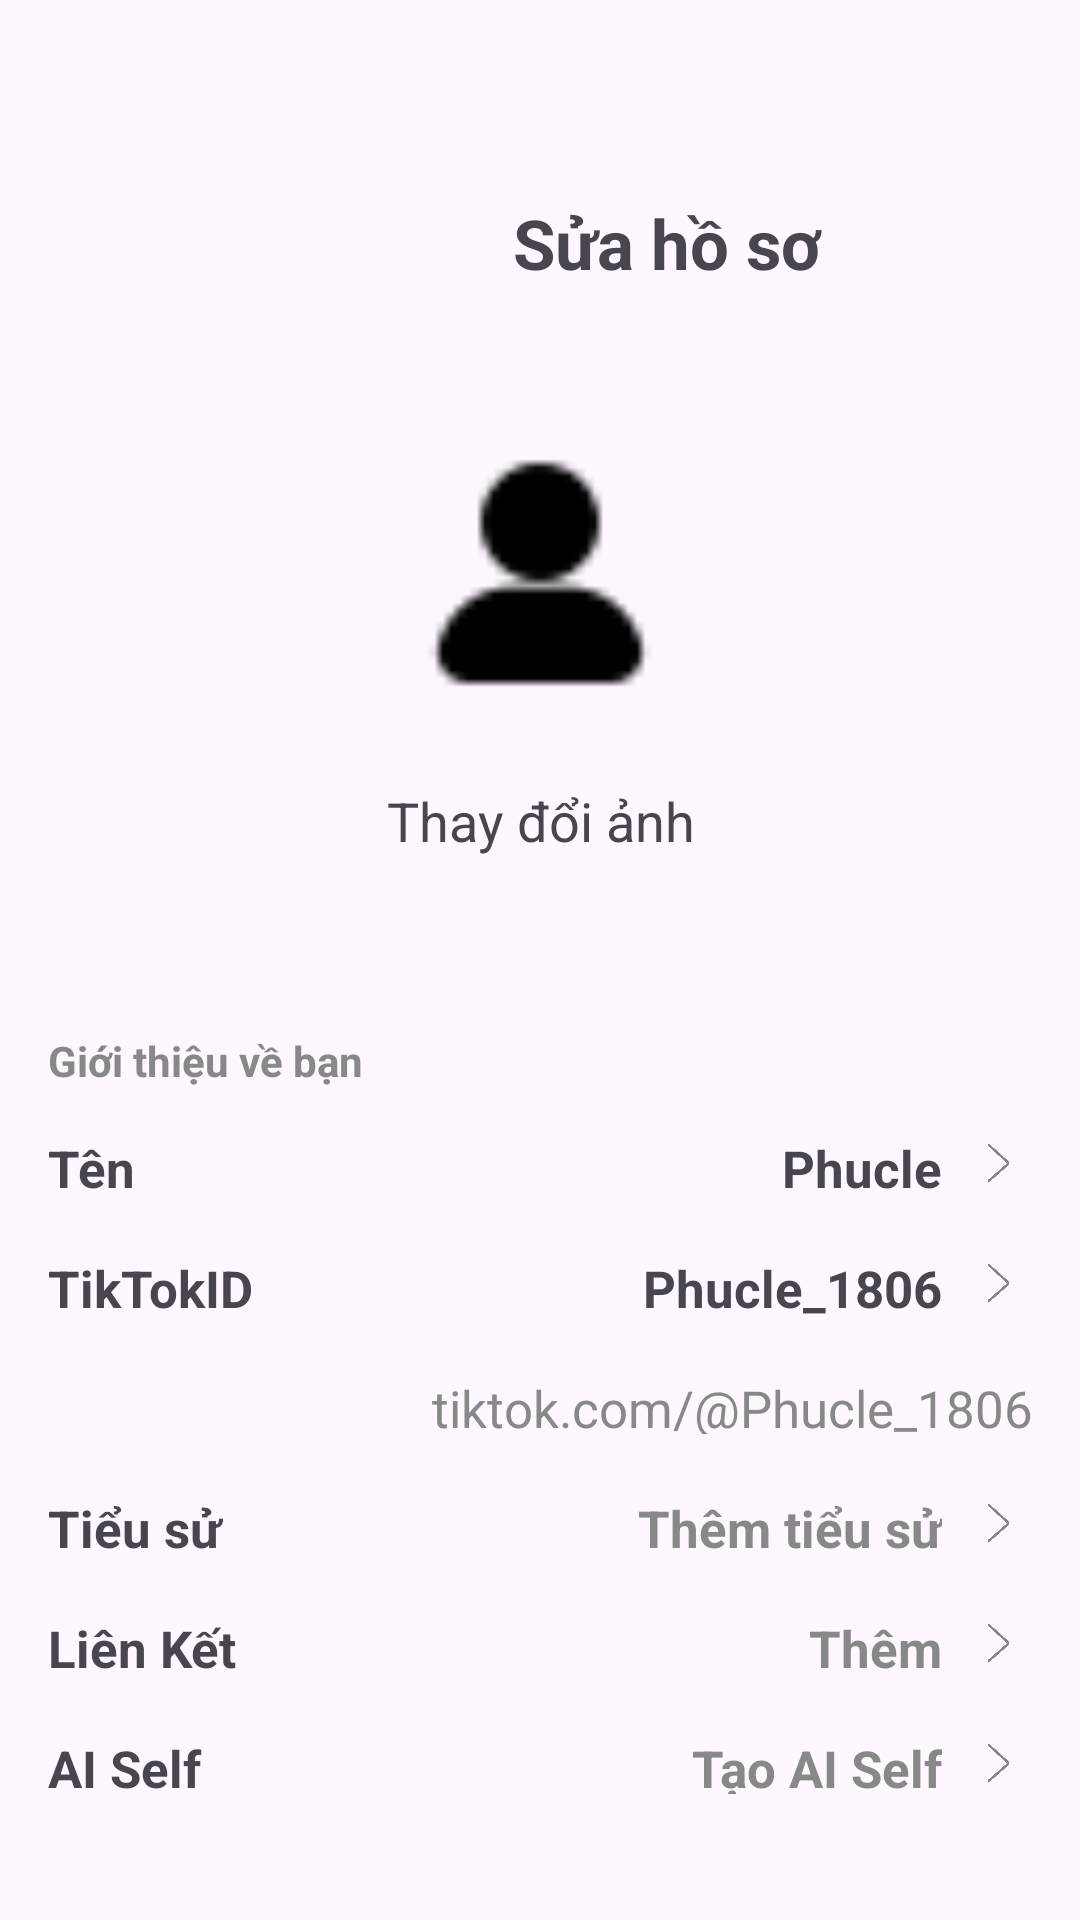

Point at icon controls on the screen. Image size 1080*1920, points as (x=x, y=y).
user: (x=539, y=573)
